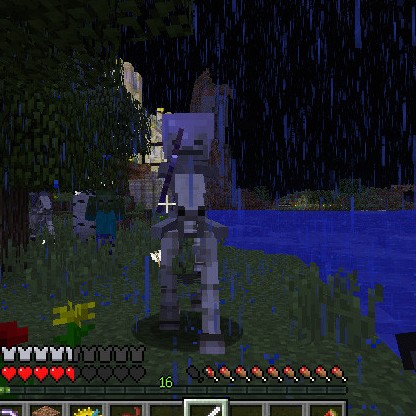skeleton: (150, 107, 230, 174)
